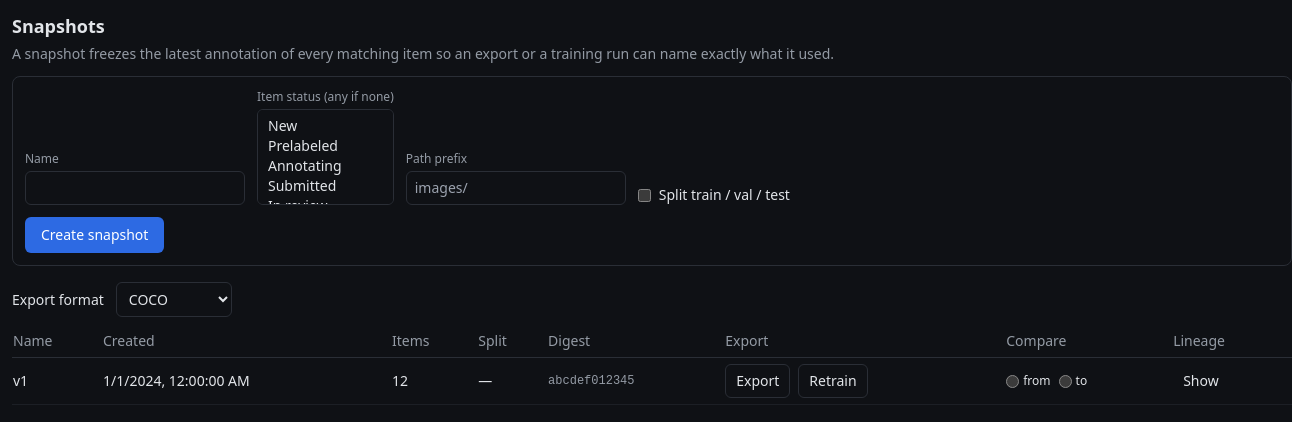
Test: SnapshotsPanel › tells the user when no webhook listens for retrain.requested
Step 1. Click the button "Retrain" → (833, 381), box [798,364,868,398]
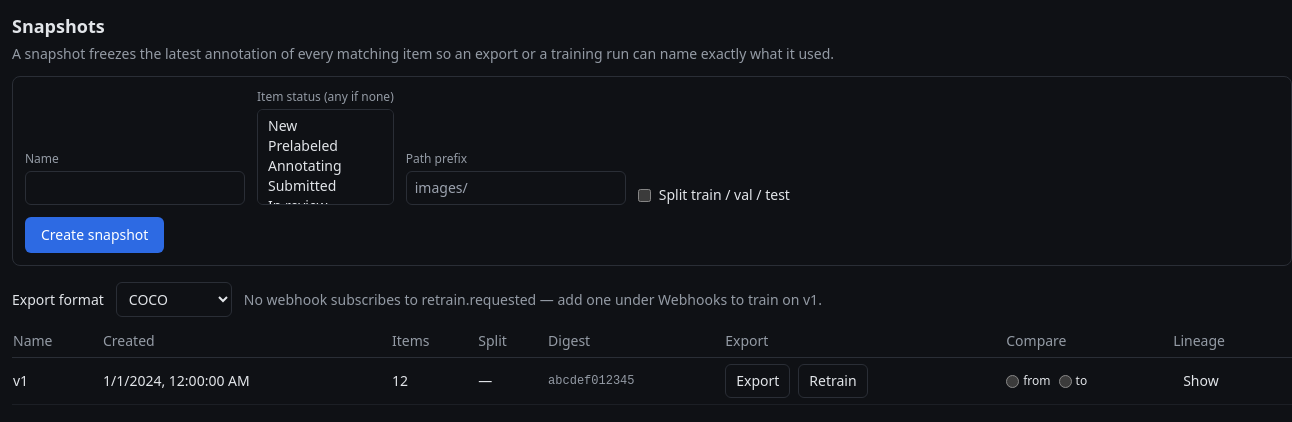
Check: the message shows "No webhook subscribes", box [244,290,822,308]
